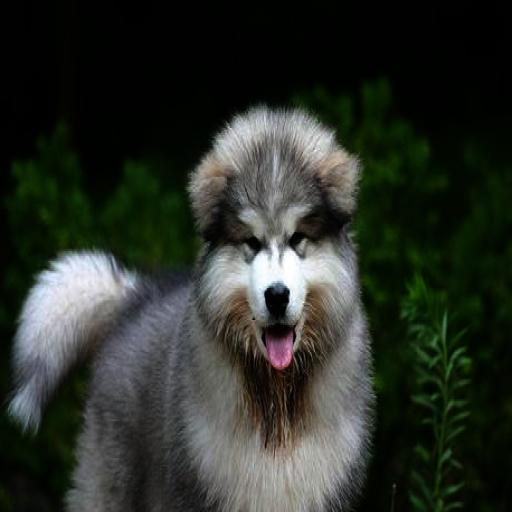dog_face: (193, 116, 360, 367)
